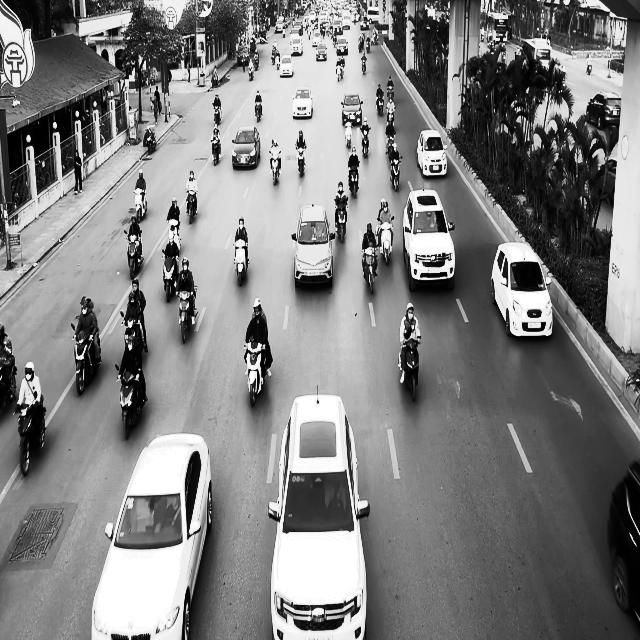bus: (486, 12, 510, 47)
car: (267, 387, 370, 639), (90, 432, 212, 639), (490, 242, 553, 338), (402, 188, 456, 292), (607, 459, 640, 624), (291, 203, 335, 287), (417, 129, 448, 178), (586, 91, 621, 129), (232, 126, 260, 169), (341, 92, 363, 125), (292, 86, 314, 118), (278, 55, 294, 77), (315, 42, 327, 61)
motorbike: (13, 392, 46, 476), (115, 363, 147, 439), (70, 321, 101, 395), (243, 340, 266, 407), (398, 338, 421, 401), (175, 286, 198, 343), (120, 310, 146, 353), (124, 228, 144, 280), (161, 249, 179, 302), (0, 356, 17, 408), (376, 216, 394, 265), (362, 246, 378, 294), (233, 240, 249, 286), (334, 198, 348, 242), (388, 155, 402, 191), (133, 187, 147, 222), (185, 190, 198, 224), (269, 150, 281, 184), (348, 163, 359, 198), (144, 125, 156, 154), (296, 144, 306, 178), (211, 136, 221, 166), (360, 127, 370, 157), (385, 130, 396, 155), (344, 119, 352, 148), (375, 93, 384, 116), (213, 104, 221, 124), (255, 102, 262, 122), (361, 55, 366, 74)
